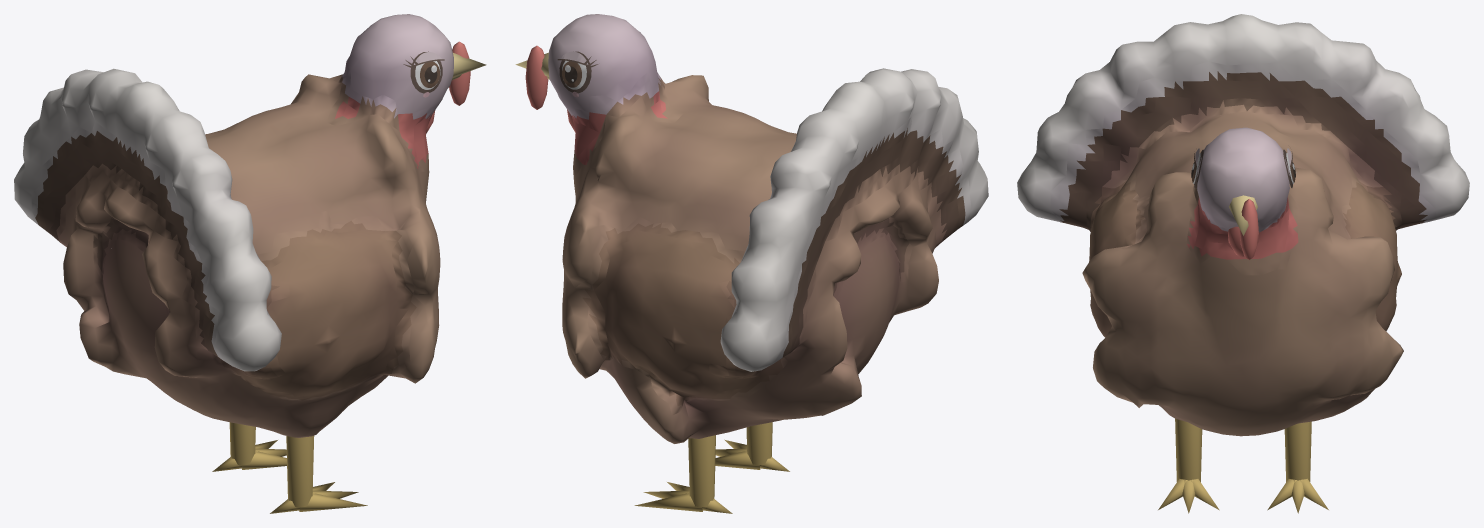
File: turkey.glb
3 renders of one model, left to right at view 1: azimuth 30°, elevation 25°; view 2: azimuth 150°, elevation 25°; view 3: azimuth 270°, elevation 25°, orthographic. The views are drawn at different scales.
Visible parts, largest first — view 1: turkey; view 2: turkey; view 3: turkey.
Part boxes in pixels (bbox=[...]): turkey: bbox=[14, 14, 486, 513]; turkey: bbox=[515, 14, 988, 513]; turkey: bbox=[1017, 14, 1469, 513].
Size of the model in its own units: 0.6986 by 0.7724 by 0.7615.
